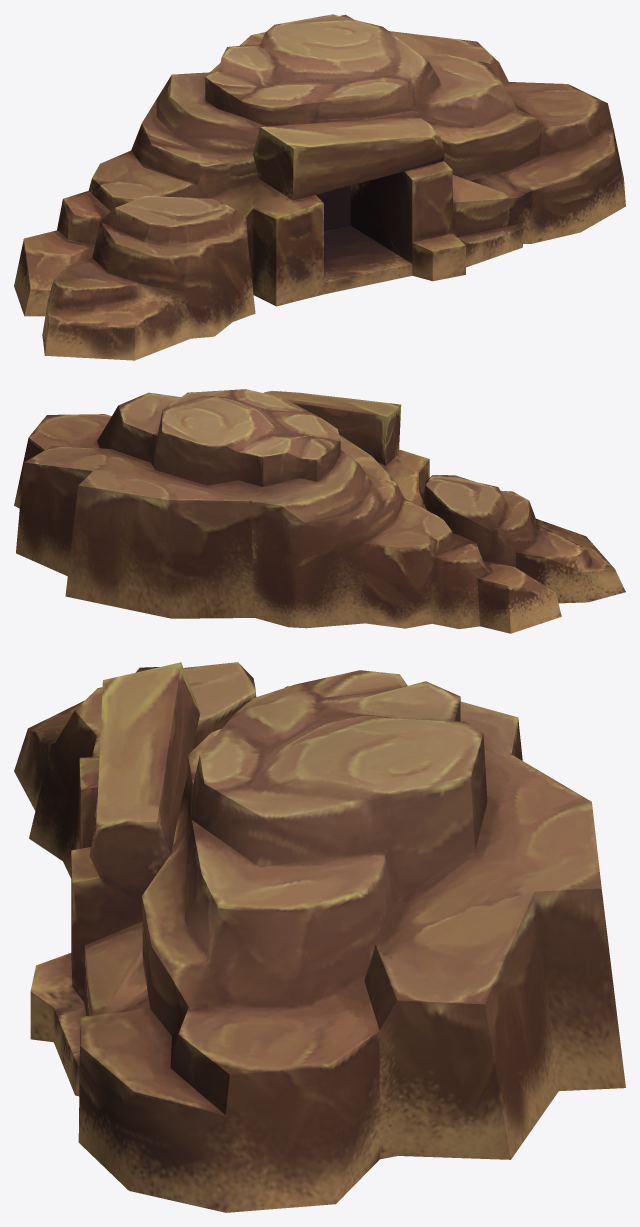
The model's file is shandong03.FBX.
3 renders of one model, top to bottom at view 1: azimuth 30°, elevation 25°; view 2: azimuth 150°, elevation 25°; view 3: azimuth 270°, elevation 25°, orthographic. The views are drawn at different scales.
Parts seen in each view (by area): view 1: shandong03; view 2: shandong03; view 3: shandong03.
Part boxes in pixels (x1=…): shandong03: x1=14, y1=14, x2=625, y2=360; shandong03: x1=14, y1=389, x2=625, y2=633; shandong03: x1=14, y1=662, x2=625, y2=1212.
Size of the model in its own units: 749 by 187 by 394.
